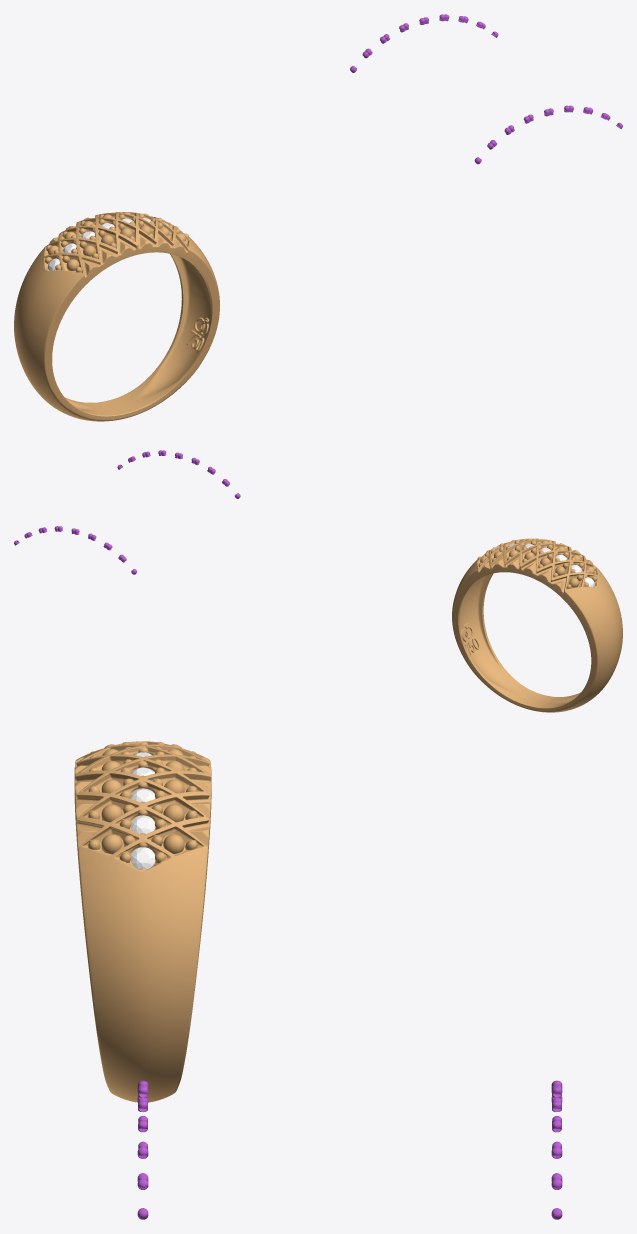
3 renders of one model, top to bottom at view 1: azimuth 30°, elevation 25°; view 2: azimuth 150°, elevation 25°; view 3: azimuth 270°, elevation 25°, orthographic. The views are drawn at different scales.
Parts seen in each view (by area): view 1: COLOR= MATERIAL=; view 2: COLOR= MATERIAL=; view 3: COLOR= MATERIAL=.
Part boxes in pixels (x1,y1,x2,y2): COLOR= MATERIAL=: [14, 212, 219, 421]; COLOR= MATERIAL=: [452, 538, 622, 712]; COLOR= MATERIAL=: [74, 741, 211, 1102].
Bounding box in the file's own units: 8.68 × 2.8 × 3.68.
